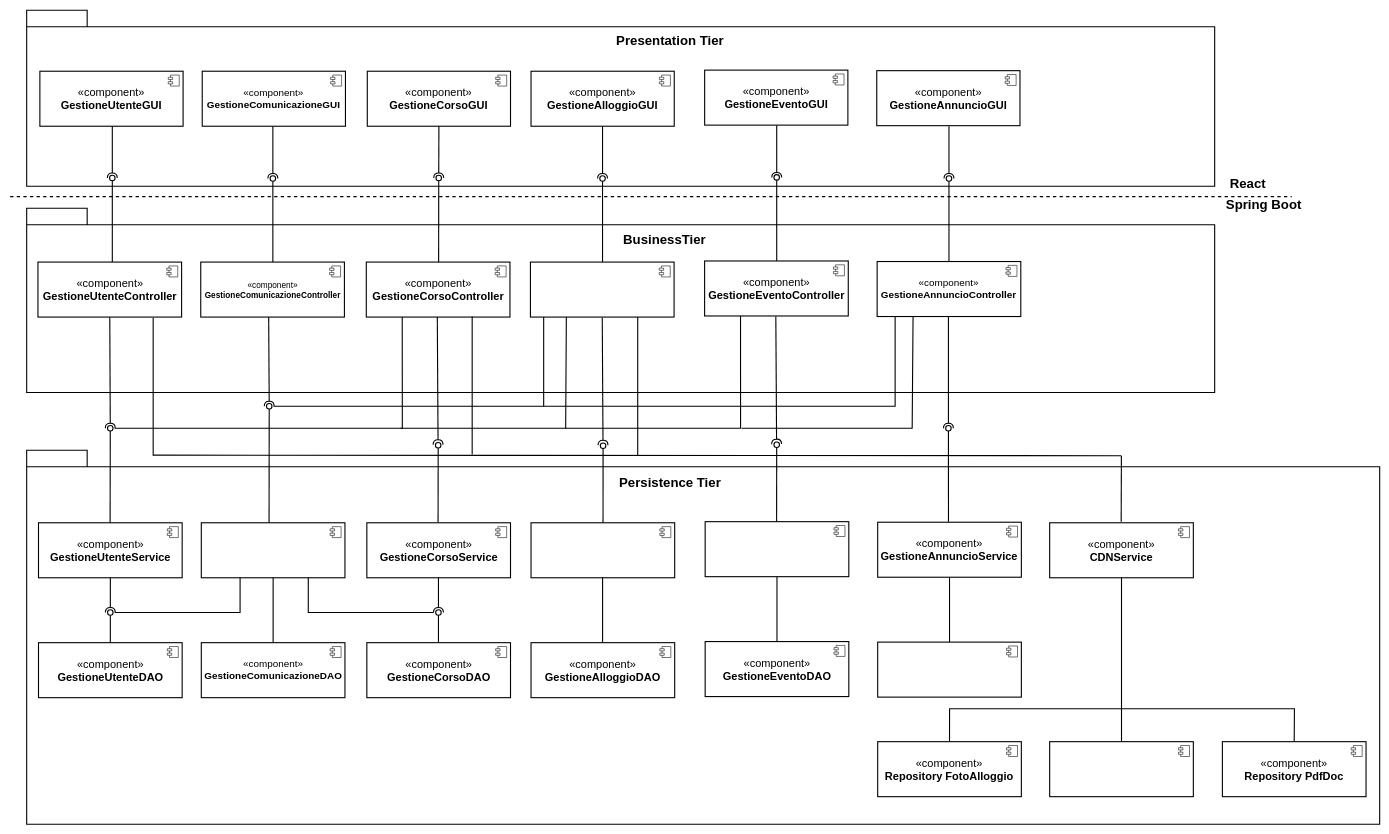
The diagram is 1389 pixels wide and 834 high, and some of its shapes have lost their labels. The shapes that lost their labels are listed below. From the top down, each one's centre as x and y in pixels, then its label:
At [602,289]: "«component» GestioneAlloggio Controller".
At [272,550]: "«component» GestioneComunicazioneService".
At [602,550]: "«component» GestioneAlloggioService".
At [776,549]: "«component» GestioneEventoService".
At [949,669]: "«component» GestioneAnnuncio DAO".
At [1121,769]: "«component» Repository FotoProfilo".
